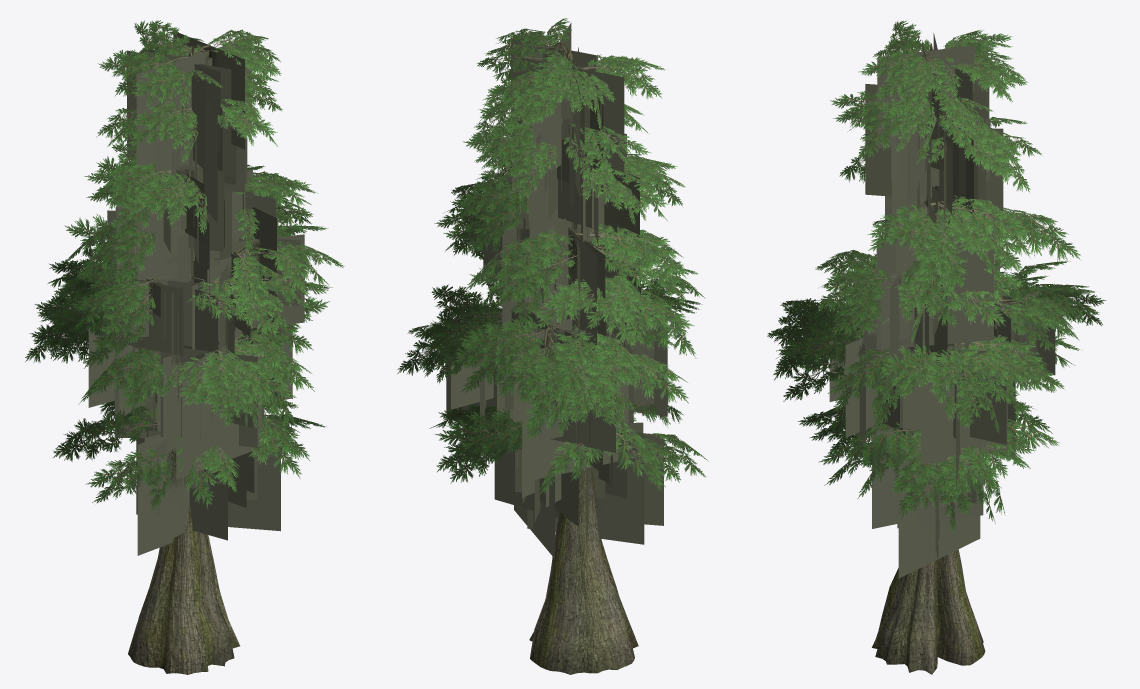
The model's file is bald-cypress.glb.
3 renders of one model, left to right at view 1: azimuth 30°, elevation 25°; view 2: azimuth 150°, elevation 25°; view 3: azimuth 270°, elevation 25°, orthographic.
Visible parts, largest first — view 1: cypres_chauve_cypreschauve_needles_D_cypreschauve_needles_D_, cypres_chauve_CypresChauve_mousse_D, cypres_chauve_cypreschauve_bark_D; view 2: cypres_chauve_cypreschauve_needles_D_cypreschauve_needles_D_, cypres_chauve_CypresChauve_mousse_D, cypres_chauve_cypreschauve_bark_D; view 3: cypres_chauve_cypreschauve_needles_D_cypreschauve_needles_D_, cypres_chauve_CypresChauve_mousse_D, cypres_chauve_cypreschauve_bark_D.
Boxes of the visible parts, x1,y1,x2,y2 form: cypres_chauve_cypreschauve_needles_D_cypreschauve_needles_D_: [25, 20, 344, 511]; cypres_chauve_CypresChauve_mousse_D: [88, 31, 304, 555]; cypres_chauve_cypreschauve_bark_D: [128, 44, 257, 674]; cypres_chauve_cypreschauve_needles_D_cypreschauve_needles_D_: [397, 18, 708, 495]; cypres_chauve_CypresChauve_mousse_D: [446, 22, 667, 558]; cypres_chauve_cypreschauve_bark_D: [484, 42, 638, 674]; cypres_chauve_cypreschauve_needles_D_cypreschauve_needles_D_: [767, 20, 1106, 532]; cypres_chauve_CypresChauve_mousse_D: [829, 33, 1055, 578]; cypres_chauve_cypreschauve_bark_D: [861, 43, 1022, 674].
Bounding box in the file's own units: 11.77 × 24.07 × 13.05.
3 materials, 3 textured.
